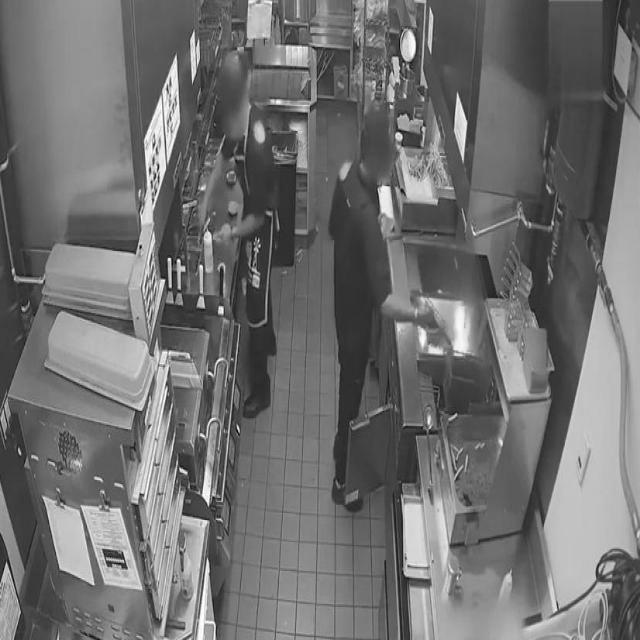smoke: (453, 301, 473, 356)
